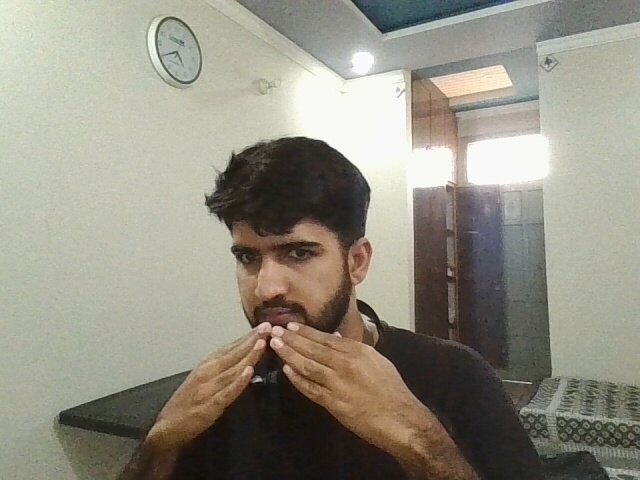Thanks: (134, 310, 442, 475)
